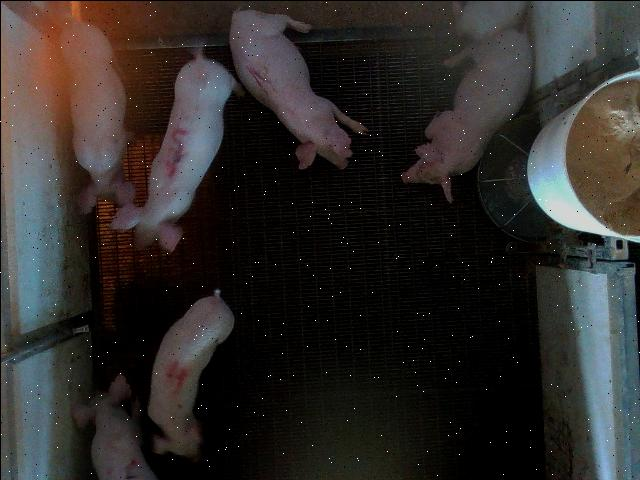pig-1: (229, 9, 368, 169)
pig-3: (110, 50, 239, 251)
pig-4: (146, 288, 234, 460)
